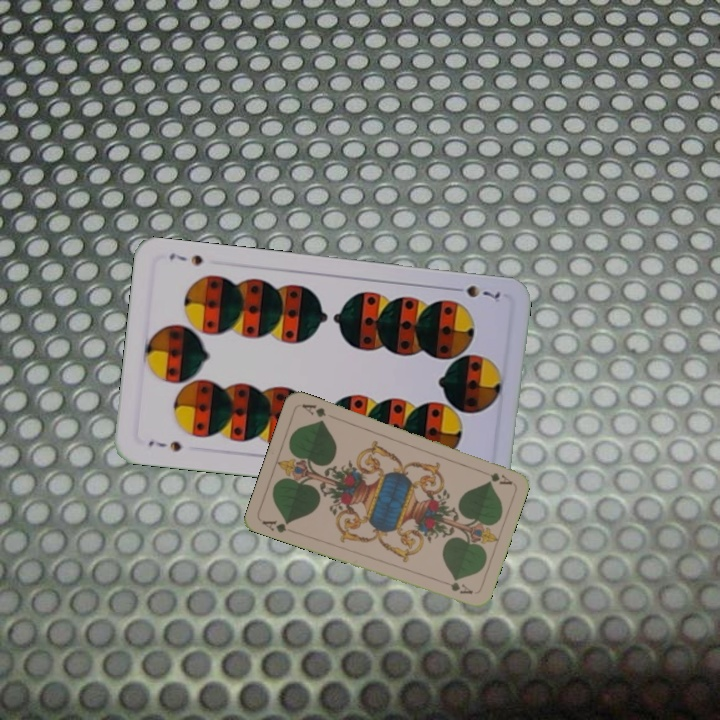GA: (258, 516, 293, 536), (486, 468, 514, 487)
S7: (447, 281, 503, 305), (144, 436, 184, 454)
